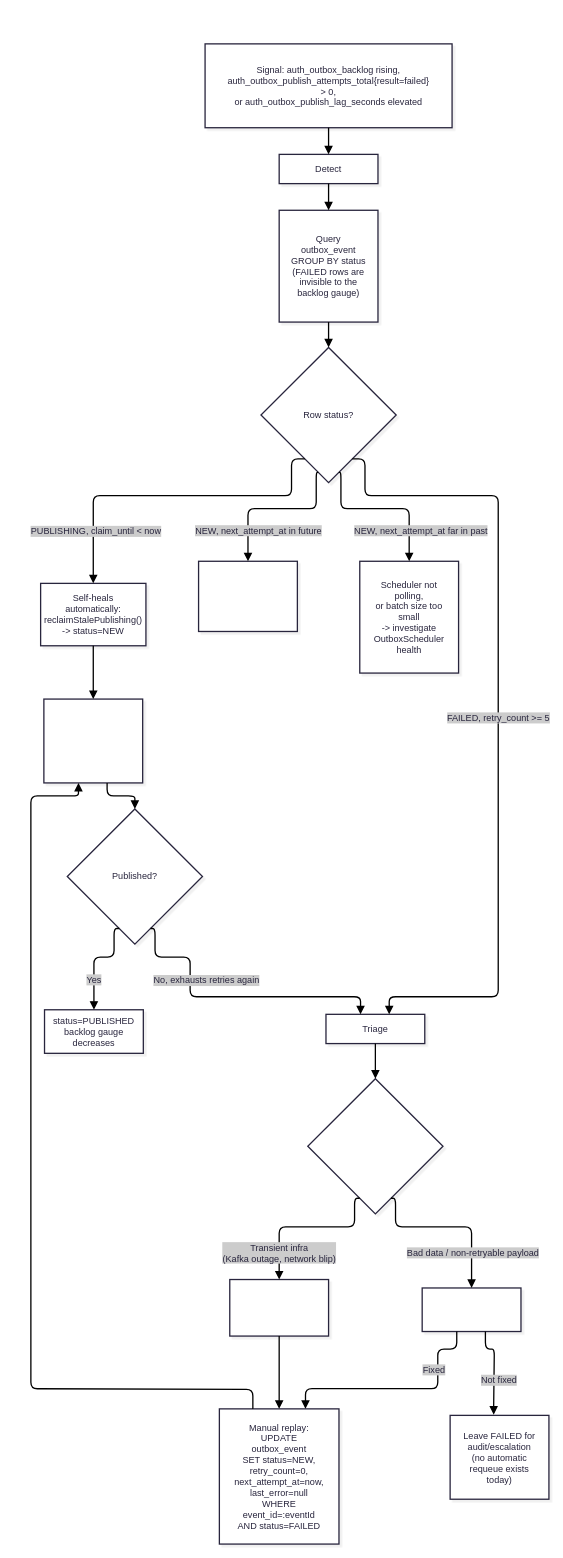
Image size: 563x1558. Some labels were removed from this diagram. The centre of each missing label's shape, as x and y in pixels:
"Confirm Kafka / infra healthy again" belongs at point (280, 1309).
"Requires code or data fix first" belongs at point (472, 1310).
"Root cause of last_error?" belongs at point (376, 1147).
"Scheduler resumes normal claim -> publish -> retry loop" belongs at point (94, 742).
"Waiting on backoff schedule No action needed" belongs at point (249, 597).
